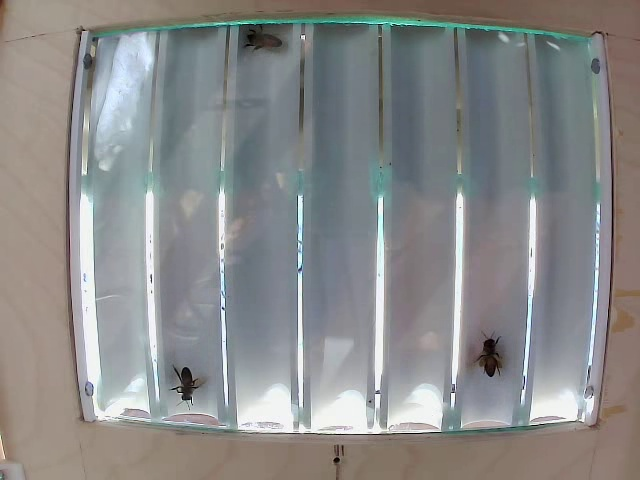bee: (168, 363, 230, 409), (481, 334, 512, 390)
